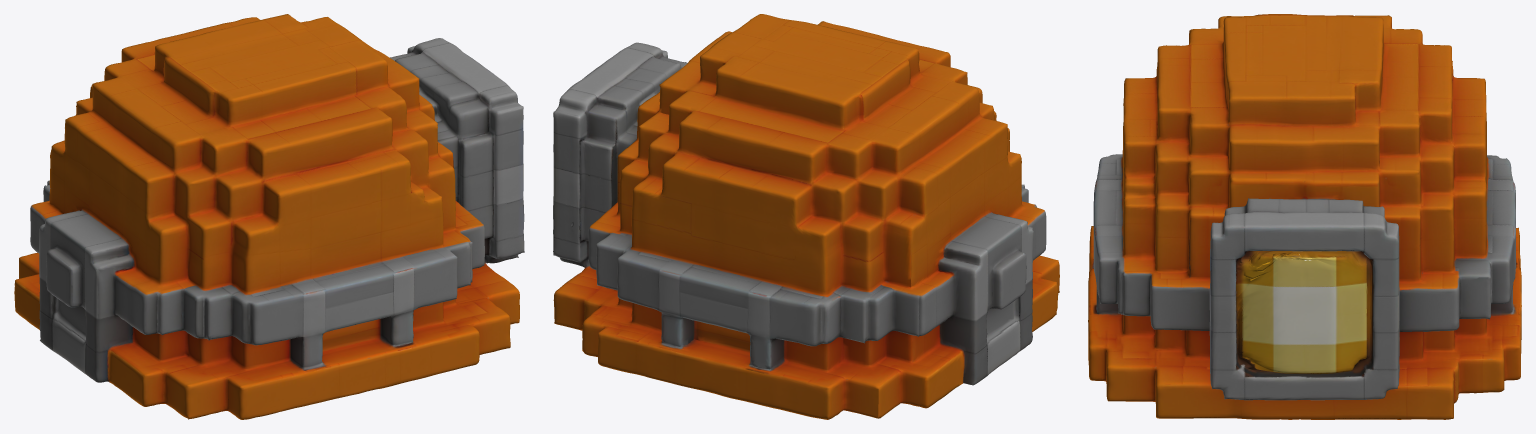
The model's file is lantern_helmet.glb.
3 renders of one model, left to right at view 1: azimuth 30°, elevation 25°; view 2: azimuth 150°, elevation 25°; view 3: azimuth 270°, elevation 25°, orthographic. The views are drawn at different scales.
Visible parts, largest first — view 1: tripo_node_bc89a03d; view 2: tripo_node_bc89a03d; view 3: tripo_node_bc89a03d.
Boxes of the visible parts, box(x1,y1,x2,y2) form: tripo_node_bc89a03d: box(14, 14, 524, 419); tripo_node_bc89a03d: box(553, 14, 1059, 419); tripo_node_bc89a03d: box(1088, 14, 1521, 419).
Size of the model in its own units: 98.01 by 60.39 by 83.24.
Materials: 1 (1 with a texture image).
